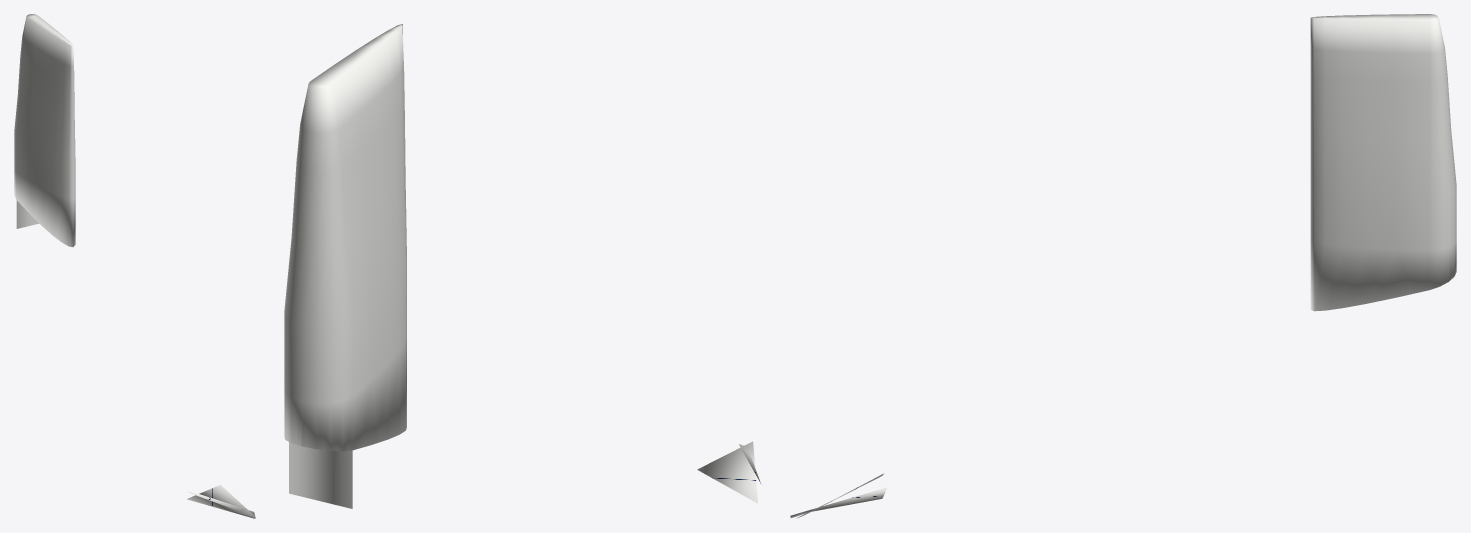
Rendered from zlt_nt_rudder_upper.glb.
3 renders of one model, left to right at view 1: azimuth 30°, elevation 25°; view 2: azimuth 150°, elevation 25°; view 3: azimuth 270°, elevation 25°, orthographic. The views are drawn at different scales.
Visible parts, largest first — view 1: rudder_upper; view 2: rudder_upper; view 3: rudder_upper.
Boxes of the visible parts, left/top/right/bottom form: rudder_upper: left=14, top=14, right=255, bottom=518; rudder_upper: left=284, top=24, right=761, bottom=508; rudder_upper: left=790, top=14, right=1456, bottom=518.
Bounding box in the file's own units: 1.34 × 9.11 × 11.03.
Materials: 1 (1 with a texture image).
